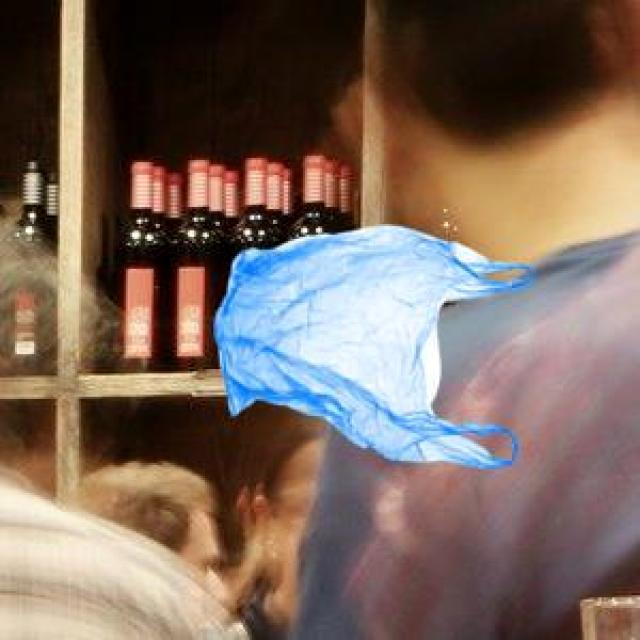Plastic_Bag: (212, 223, 530, 464)
